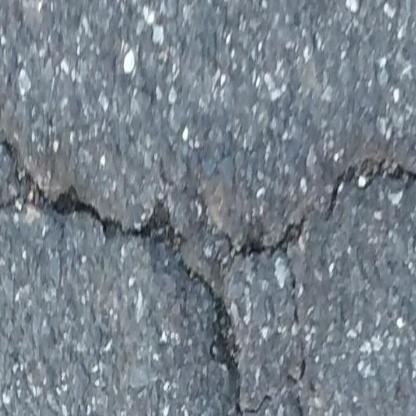Cracks: (0, 116, 265, 416), (230, 160, 416, 261)
